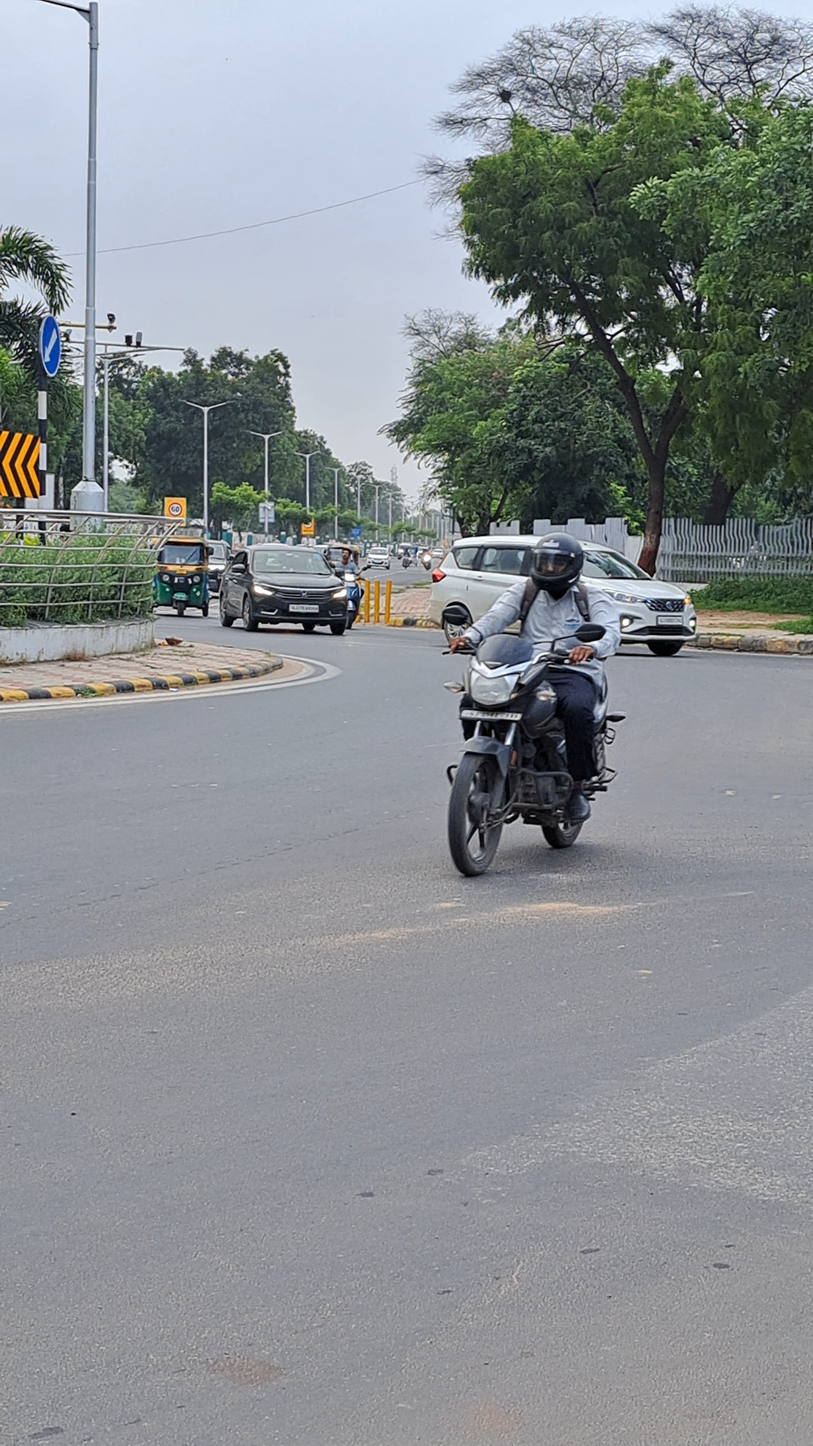BikeWithRider: (430, 526, 635, 886)
Helmet: (522, 530, 592, 597)
